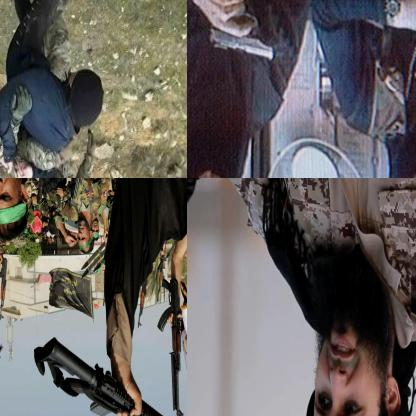pistol: (207, 0, 278, 65)
rifle: (33, 337, 186, 415), (156, 273, 186, 415), (0, 255, 10, 324), (65, 178, 94, 201), (29, 178, 47, 205)
